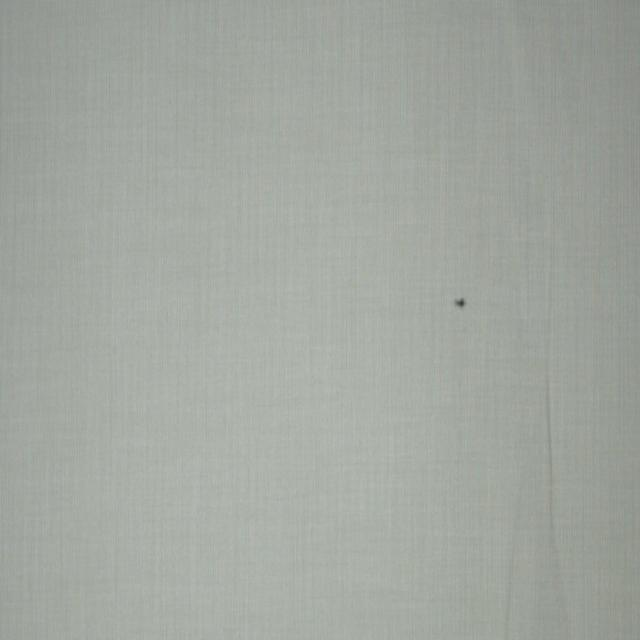dirty: (453, 295, 467, 309)
